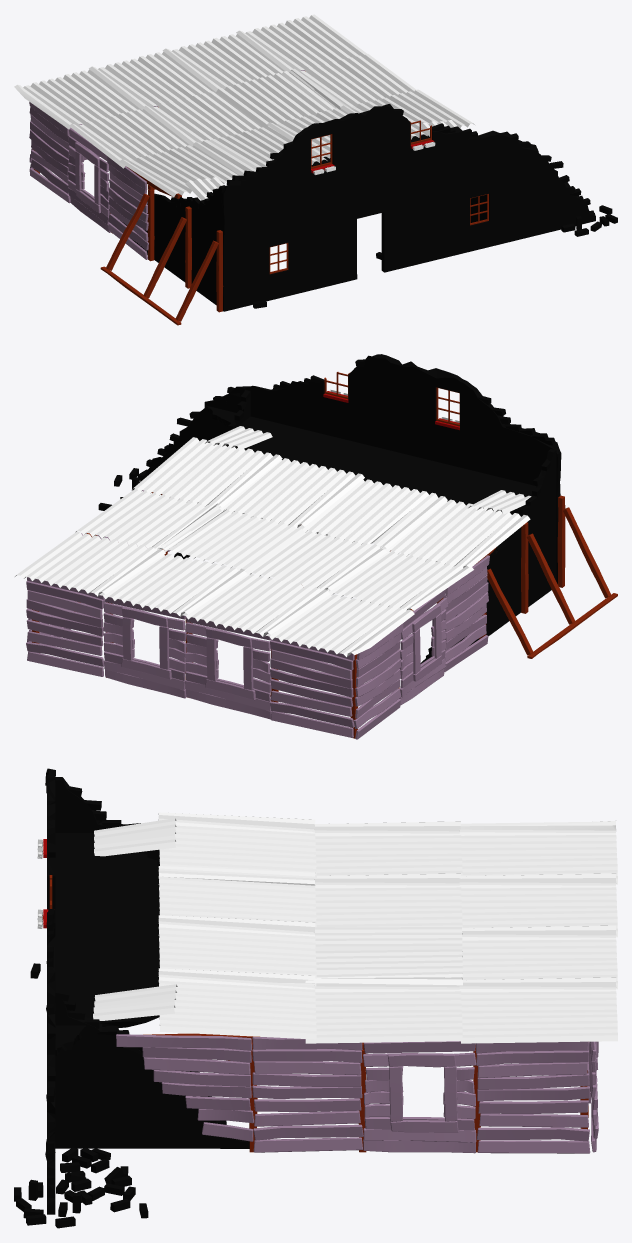
File: LieuxDeCulte_02.fbx
The picture shows the model from 3 angles, top to bottom: view 1: azimuth 30°, elevation 25°; view 2: azimuth 150°, elevation 25°; view 3: azimuth 270°, elevation 25°; orthographic projection. The views are drawn at different scales.
Parts seen in each view (by area): view 1: LieuxDeCulte_02; view 2: LieuxDeCulte_02; view 3: LieuxDeCulte_02.
Part boxes in pixels (x1=…): LieuxDeCulte_02: x1=14, y1=14, x2=617, y2=325; LieuxDeCulte_02: x1=15, y1=354, x2=617, y2=739; LieuxDeCulte_02: x1=14, y1=768, x2=617, y2=1228.
Bounding box in the file's own units: 1550 × 561 × 1271.
